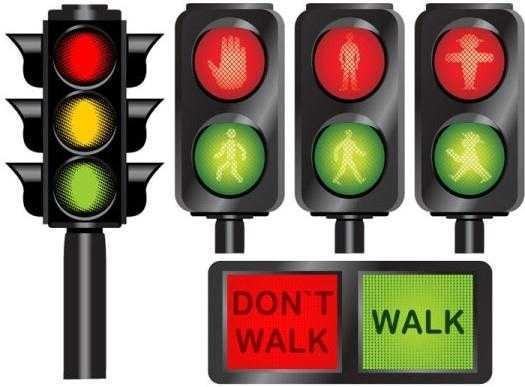1: (309, 114, 390, 205), (189, 110, 269, 201), (430, 110, 507, 200)
5: (54, 20, 120, 90)
7: (430, 14, 507, 105), (316, 20, 389, 107), (198, 17, 268, 106)
9: (55, 95, 120, 156)
red traffic light: (56, 160, 117, 223)
